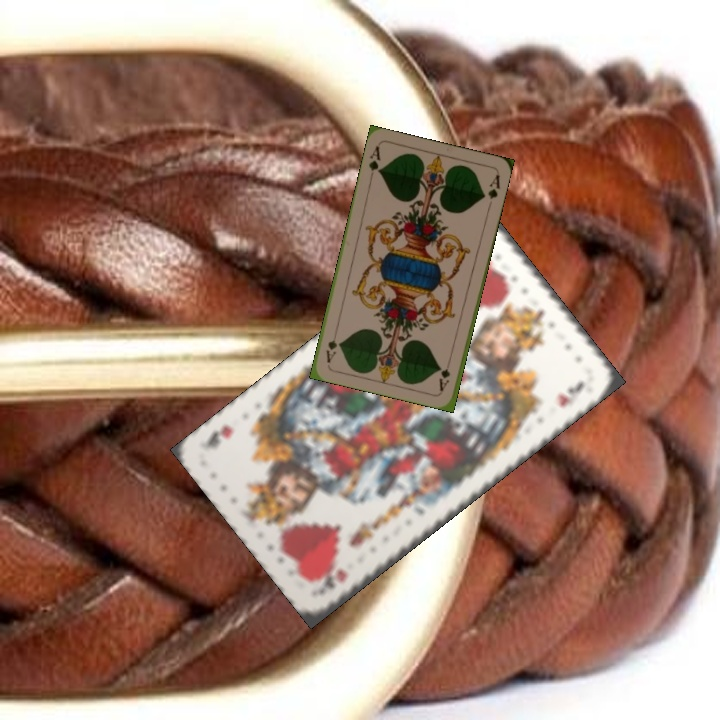GA: (435, 353, 454, 393), (365, 142, 383, 182)
HK: (319, 564, 351, 592)
